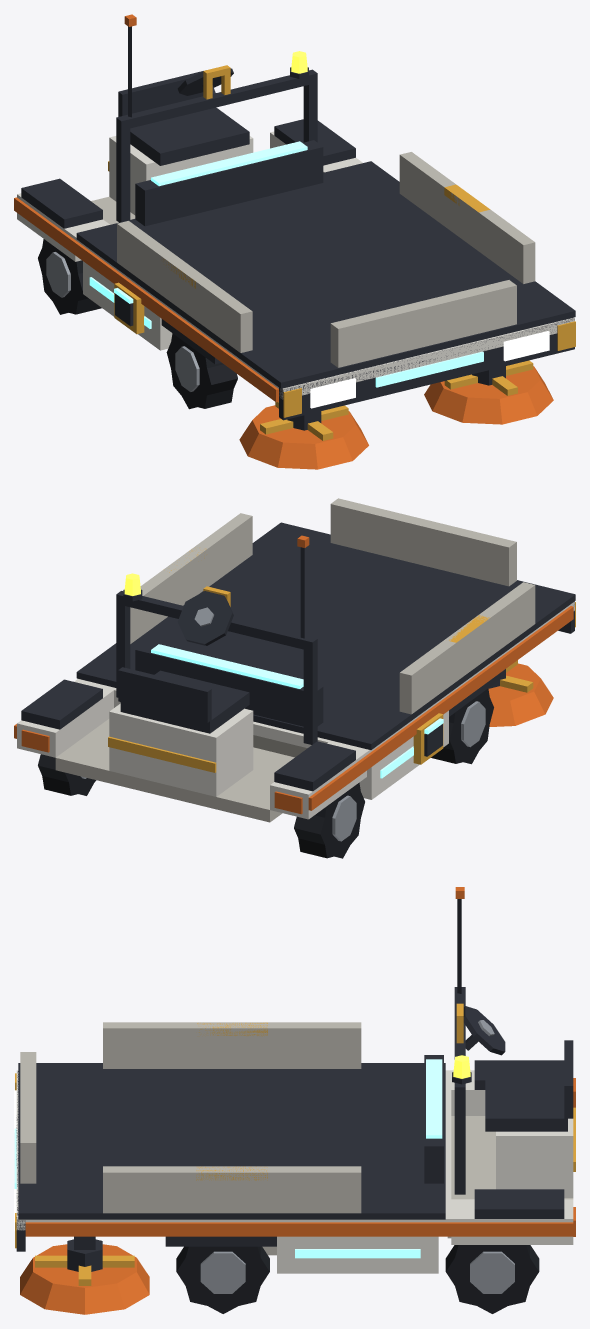
File: vozidlo-rideon.glb
3 renders of one model, top to bottom at view 1: azimuth 30°, elevation 25°; view 2: azimuth 150°, elevation 25°; view 3: azimuth 270°, elevation 25°, orthographic. The views are drawn at different scales.
Visible parts, largest first — view 1: karoserie, kartac_1, kartac_2, kolo_1, kolo_3; view 2: karoserie, kolo_3, kartac_1, kolo_1, kolo_4; view 3: karoserie, kartac_2, kolo_4, kolo_2.
Boxes of the visible parts, x1,y1,x2,y2 form: karoserie: (14, 14, 575, 420); kartac_1: (239, 402, 368, 469); kartac_2: (424, 360, 553, 424); kolo_1: (166, 333, 237, 409); kolo_3: (38, 239, 101, 314); karoserie: (14, 498, 575, 822); kolo_3: (294, 782, 364, 858); kartac_1: (488, 660, 553, 726); kolo_1: (431, 688, 493, 764); kolo_4: (38, 754, 96, 795); karoserie: (14, 887, 575, 1273); kartac_2: (20, 1239, 149, 1314); kolo_4: (445, 1245, 539, 1313); kolo_2: (176, 1246, 269, 1313).
Bounding box in the file's own units: 2.05 × 1.9 × 3.13.
